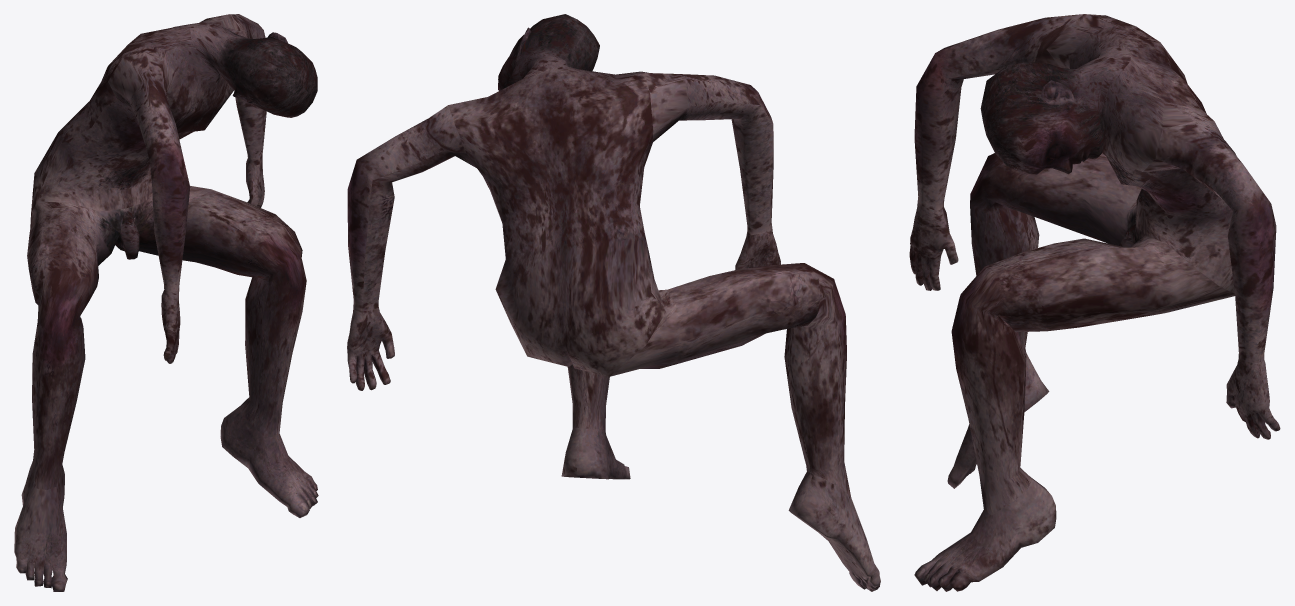
Rendered from corpse_bloody.dae.
The picture shows the model from 3 angles, left to right: view 1: azimuth 30°, elevation 25°; view 2: azimuth 150°, elevation 25°; view 3: azimuth 270°, elevation 25°; orthographic projection. The views are drawn at different scales.
Parts seen in each view (by area): view 1: corpse_bloody; view 2: corpse_bloody; view 3: corpse_bloody.
Part boxes in pixels (<box>): corpse_bloody: <box>14,14,318,591</box>; corpse_bloody: <box>347,14,880,591</box>; corpse_bloody: <box>909,14,1280,591</box>.
Size of the model in its own units: 1.29 by 1.6 by 0.9578.
